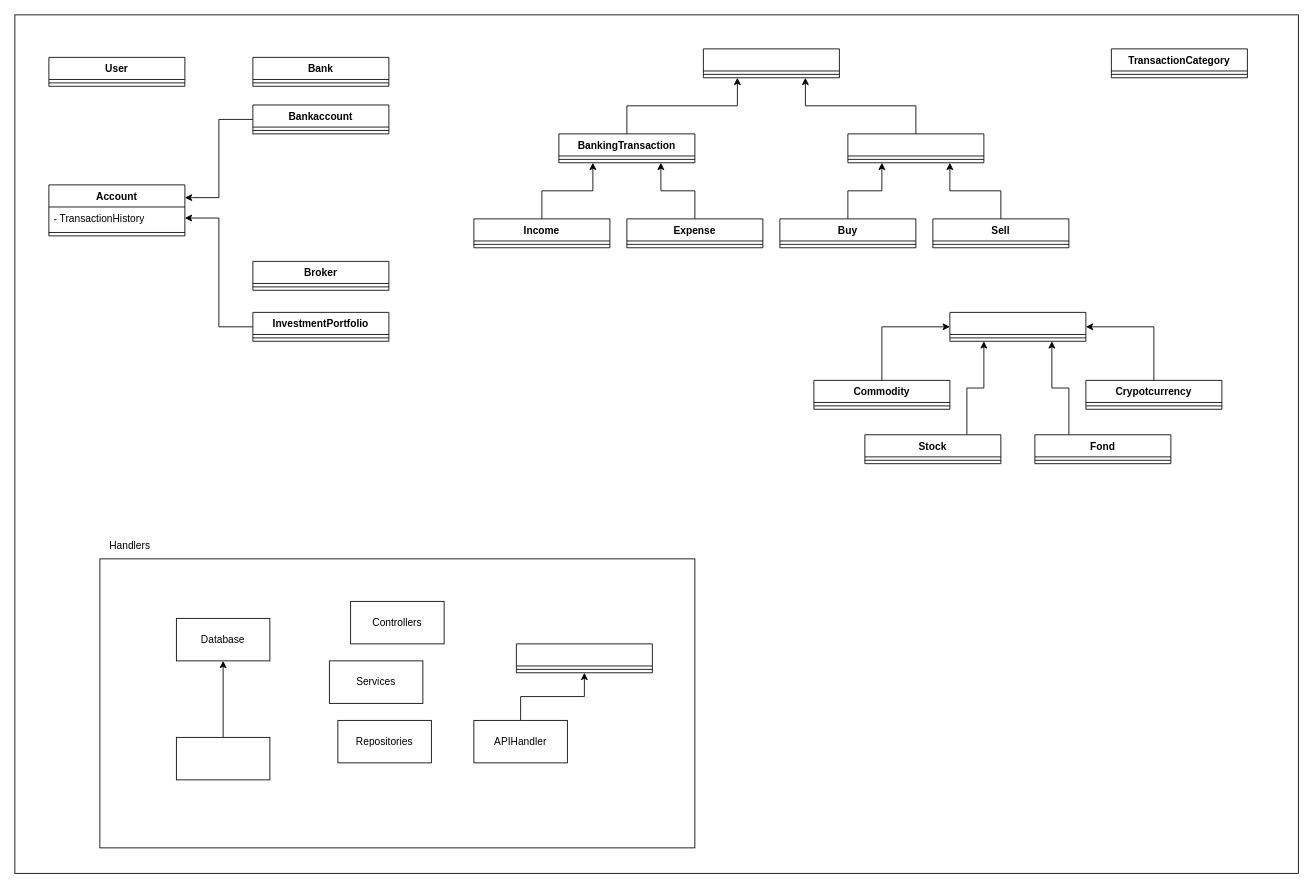
Image size: 1313x888. Some labels were removed from this diagram. The centre of each missing label's shape, as x and y in pixels:
API: the point at 584,658
Asset: the point at 1017,326
DatabaseHandlers: the point at 223,758
InvestmentTransaction: the point at 915,148
Transaction: the point at 771,63
